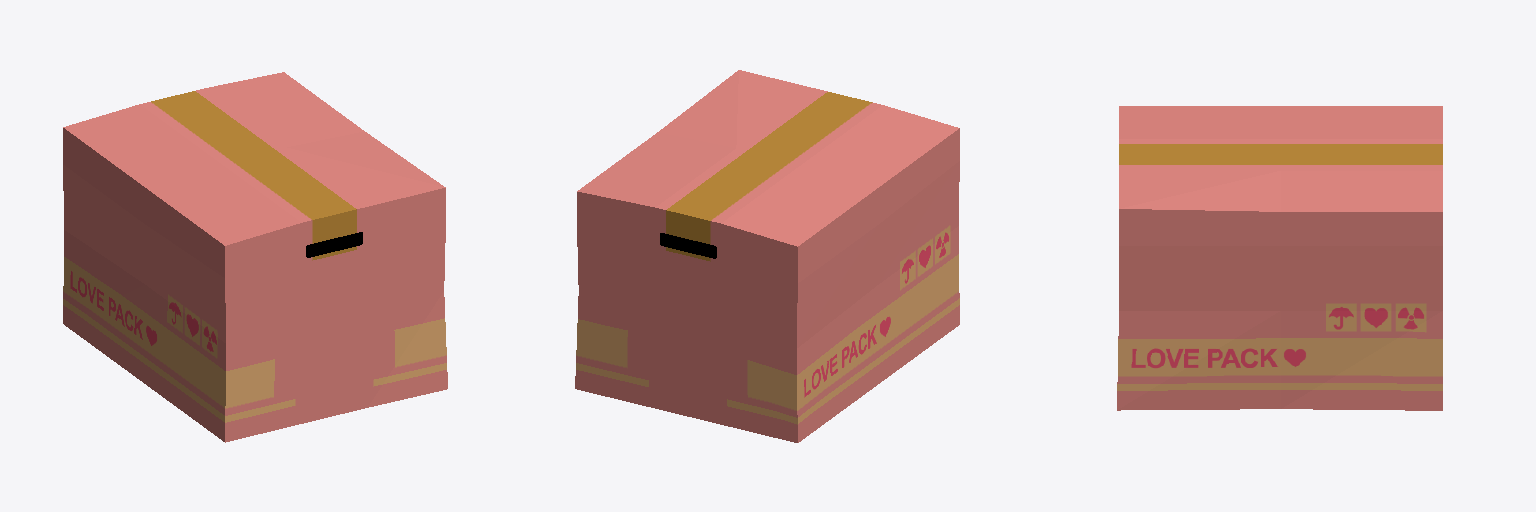
The picture shows the model from 3 angles: view 1: azimuth 30°, elevation 25°; view 2: azimuth 150°, elevation 25°; view 3: azimuth 270°, elevation 25°; orthographic projection.
Visible parts, largest first — view 1: pasted__pCube1 group; view 2: pasted__pCube1 group; view 3: pasted__pCube1 group.
Part boxes in pixels (left/top/right/bottom): pasted__pCube1 group: left=63, top=72, right=447, bottom=442; pasted__pCube1 group: left=575, top=70, right=959, bottom=442; pasted__pCube1 group: left=1117, top=106, right=1442, bottom=410.
Size of the model in its own units: 1.83 by 1.58 by 2.33.
2 materials, 1 textured.